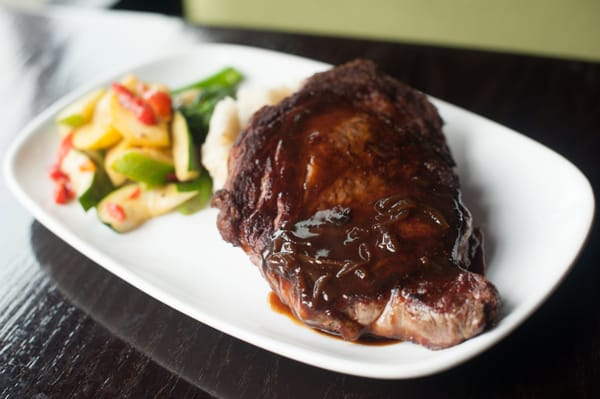soup: (215, 57, 504, 350)
